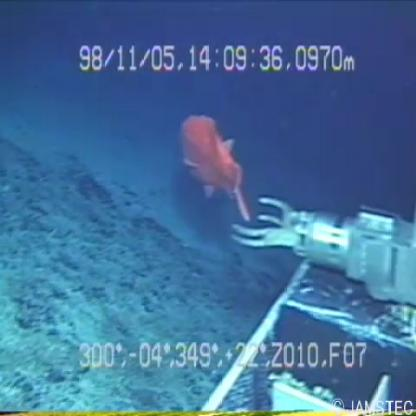Bio: (176, 113, 254, 226)
Rov: (231, 192, 416, 414)
